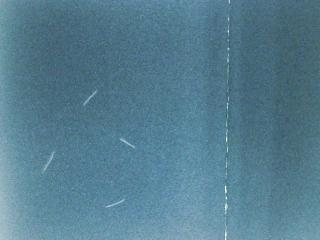crack: (216, 0, 238, 240)
scratch: (79, 85, 101, 111), (102, 194, 129, 214), (115, 133, 141, 153), (41, 150, 56, 174)
